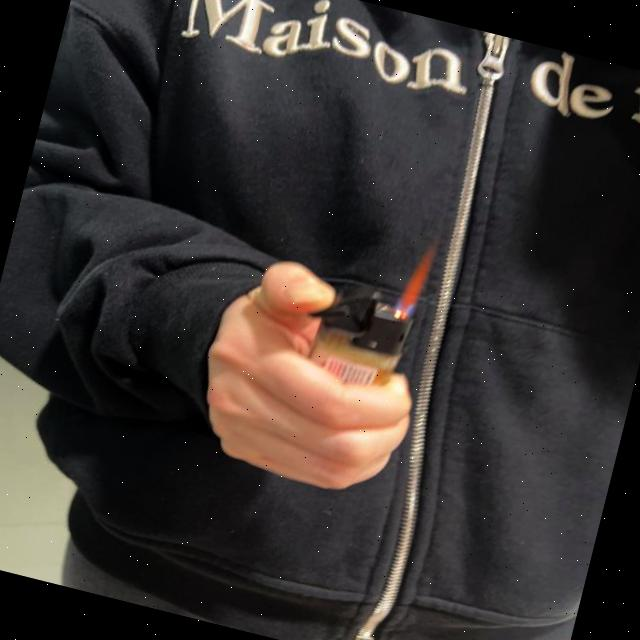fire: (392, 238, 439, 322)
